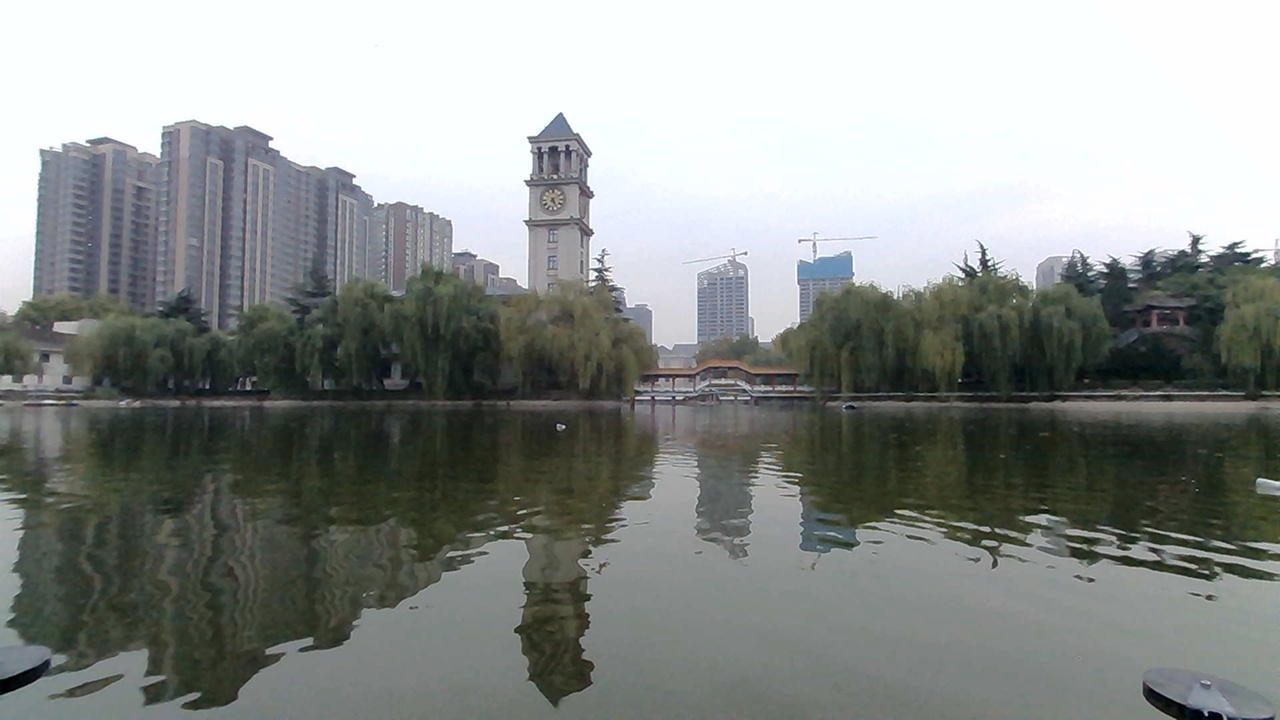bottle: (548, 412, 579, 433), (1253, 473, 1280, 494)
